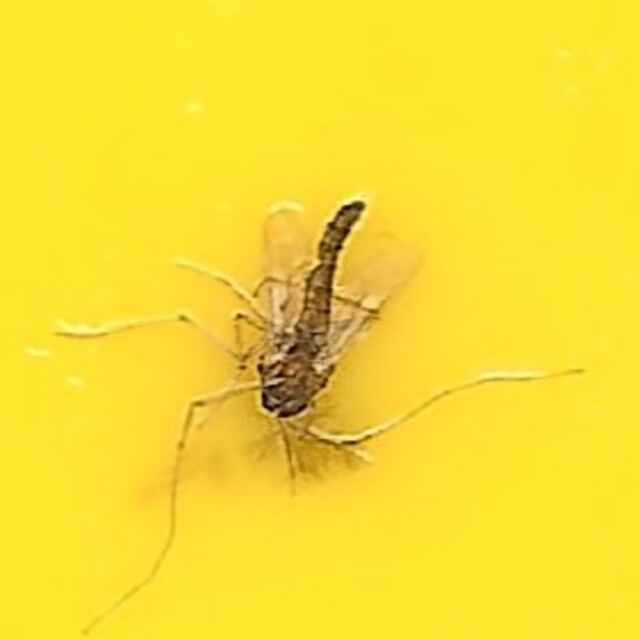Nematocera: (228, 193, 412, 447)
